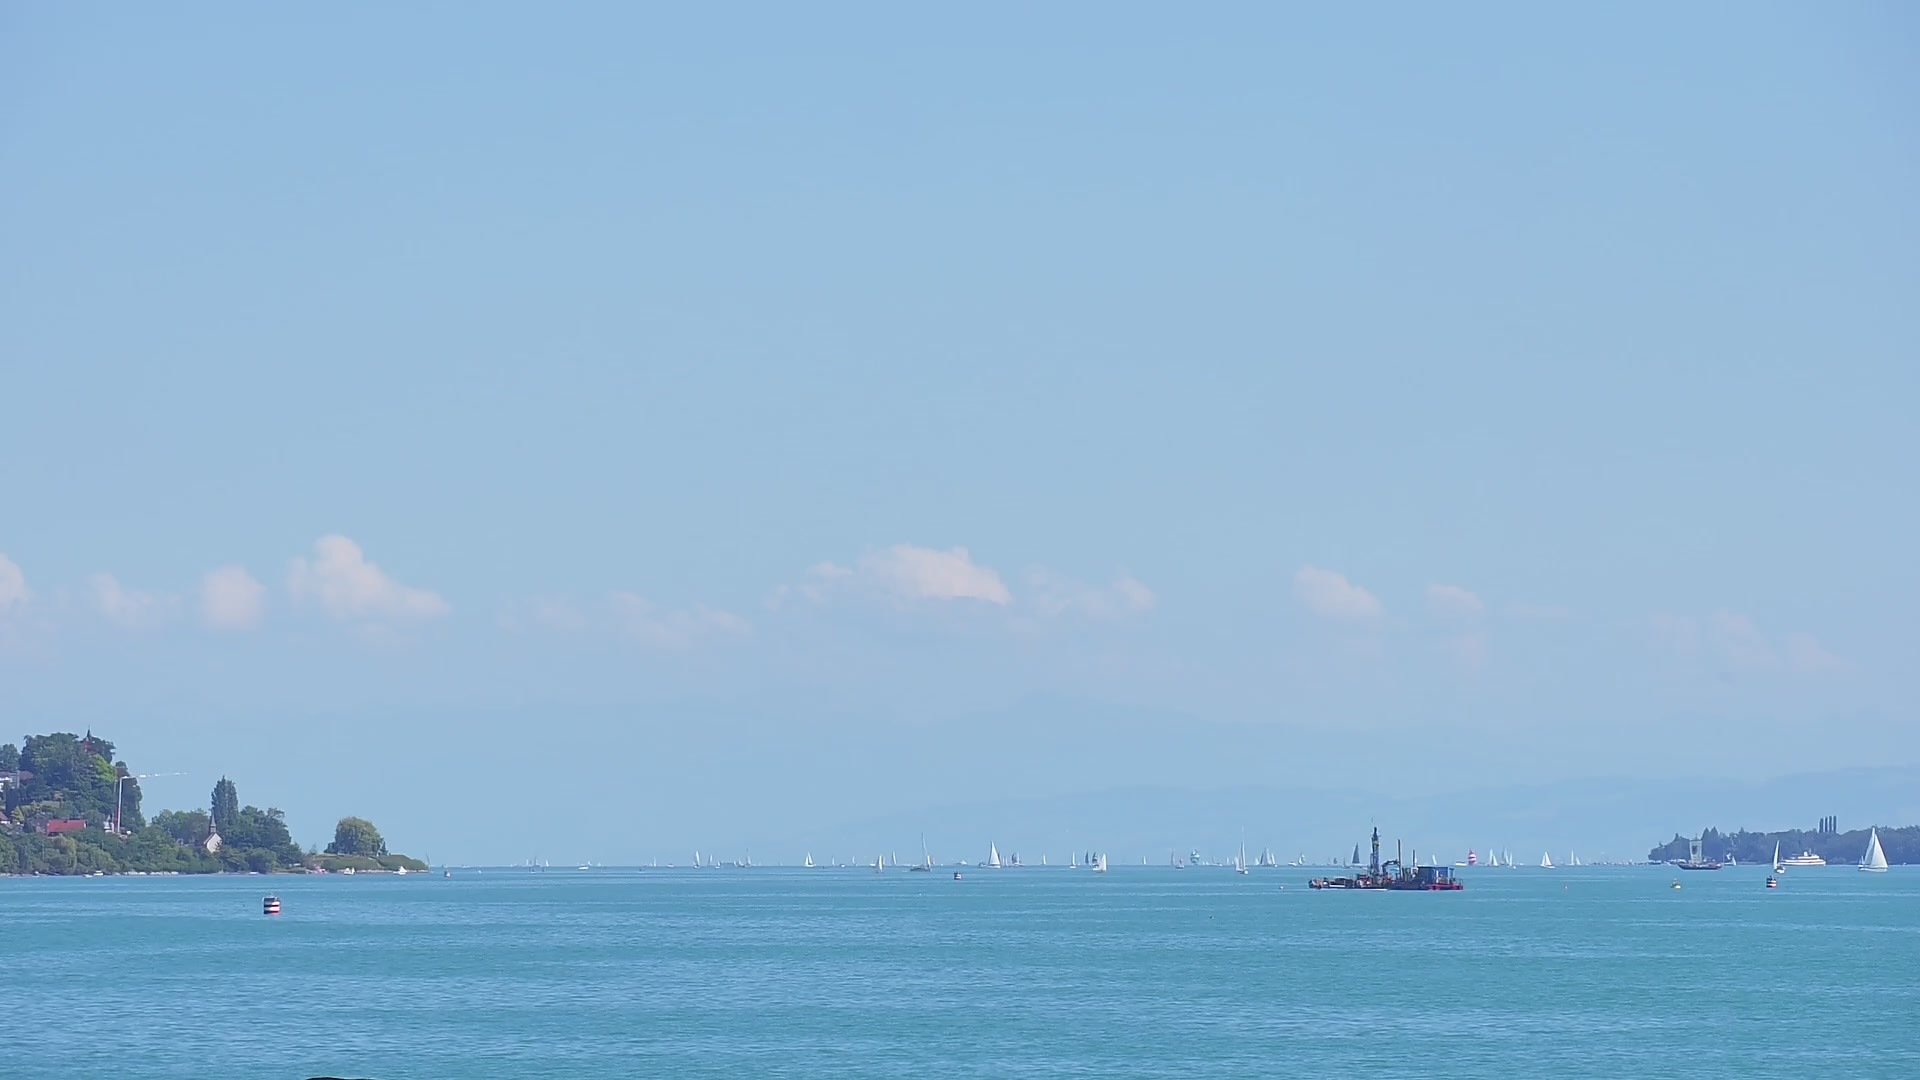sea: (1677, 831, 1720, 872), (1855, 825, 1890, 873), (909, 829, 932, 873), (1776, 848, 1826, 868), (978, 837, 1001, 869), (1234, 825, 1247, 876), (1771, 837, 1785, 874), (1348, 843, 1367, 868), (1257, 847, 1271, 868), (1091, 853, 1106, 872), (1538, 849, 1553, 868), (745, 847, 757, 868), (1189, 847, 1201, 866), (1466, 847, 1478, 866), (691, 849, 702, 869), (804, 851, 818, 866), (1338, 855, 1352, 870), (1486, 851, 1498, 868), (1722, 853, 1737, 866), (1068, 849, 1077, 869), (1499, 847, 1509, 866), (1013, 852, 1025, 866), (1266, 853, 1278, 866), (874, 855, 882, 873), (1170, 848, 1178, 866), (396, 864, 407, 876), (1083, 849, 1091, 866), (1298, 852, 1307, 866), (1565, 852, 1575, 866), (889, 851, 897, 866), (955, 858, 969, 866), (1211, 856, 1221, 866), (343, 866, 355, 876), (932, 855, 942, 866), (705, 853, 713, 866), (1178, 857, 1185, 870), (1453, 858, 1466, 866), (731, 857, 740, 868), (953, 869, 963, 880), (578, 862, 589, 870), (531, 855, 539, 866), (880, 855, 887, 866), (1141, 855, 1149, 866), (829, 853, 836, 866), (849, 853, 856, 866), (1040, 853, 1047, 866), (1004, 856, 1011, 866), (1509, 851, 1514, 866), (1001, 855, 1007, 866), (1225, 855, 1232, 866), (1230, 855, 1237, 866), (1575, 852, 1580, 866), (524, 858, 531, 868), (439, 862, 448, 870), (651, 857, 658, 868), (585, 858, 593, 866), (715, 860, 723, 868), (1253, 857, 1261, 865), (1286, 861, 1298, 866), (442, 870, 451, 877), (869, 858, 876, 868), (837, 861, 847, 868), (738, 857, 745, 866), (1204, 857, 1211, 866), (542, 858, 549, 866), (666, 861, 674, 868), (596, 861, 603, 866)
